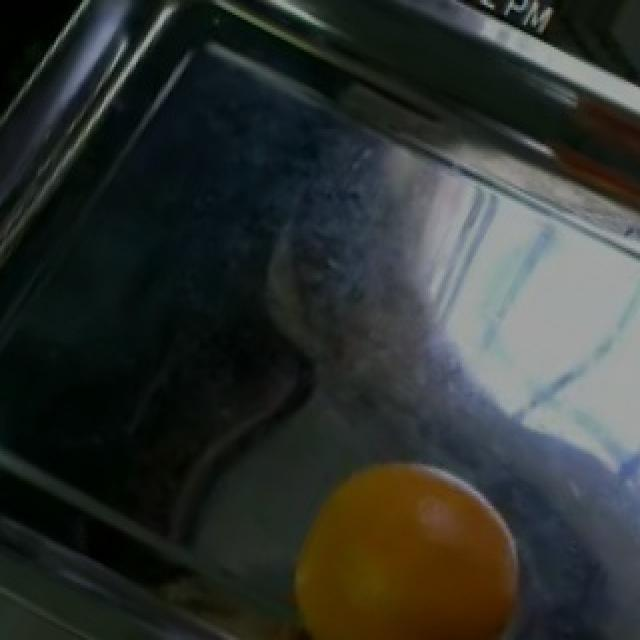Fruit: (268, 437, 536, 638)
